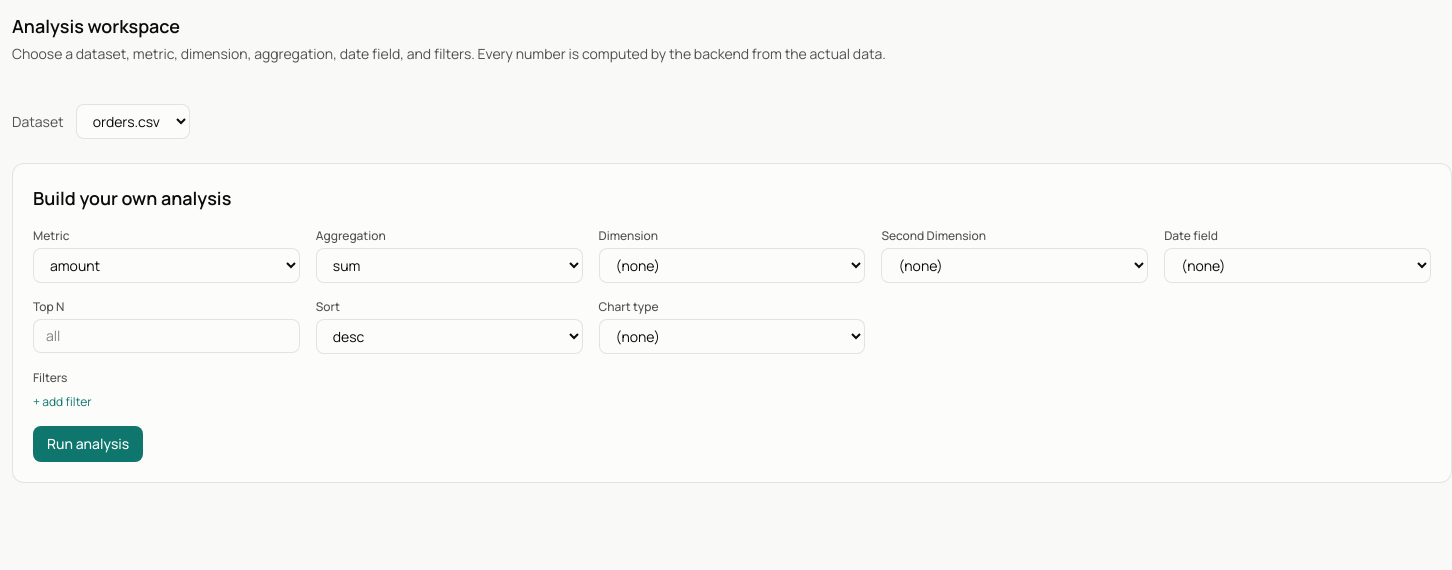
Test case: AnalysisWorkspace › shows an error banner when the analysis request fails
What coordinates should you click on to do the following:
click the button "Run analysis"
I would click on:
 (88, 444)
Its box is [33,426,143,462].
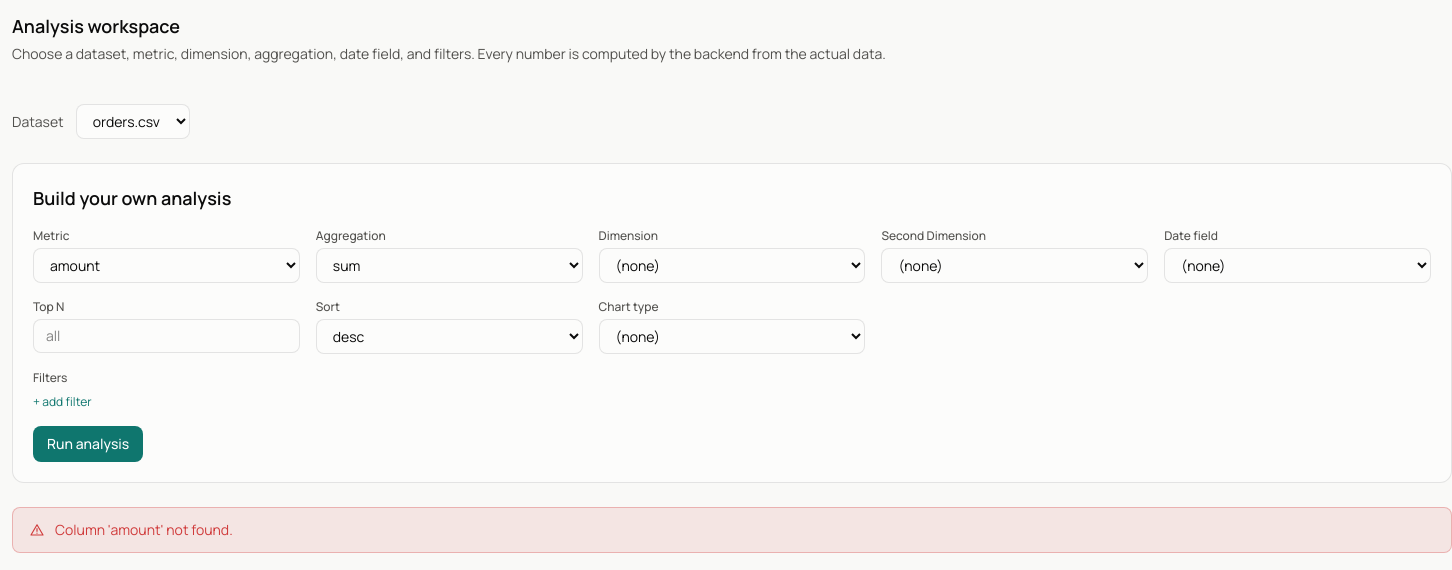
Expected: the text "Column 'amount' not found." is shown, [55,520,233,540]
